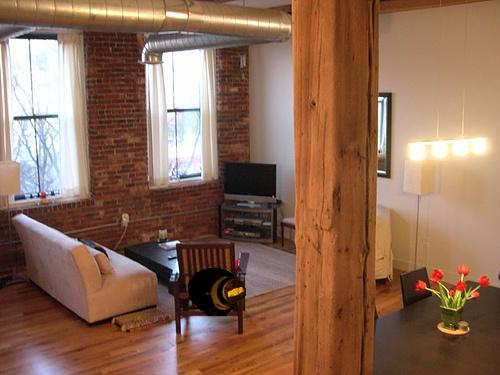tampered: (189, 268, 246, 316)
